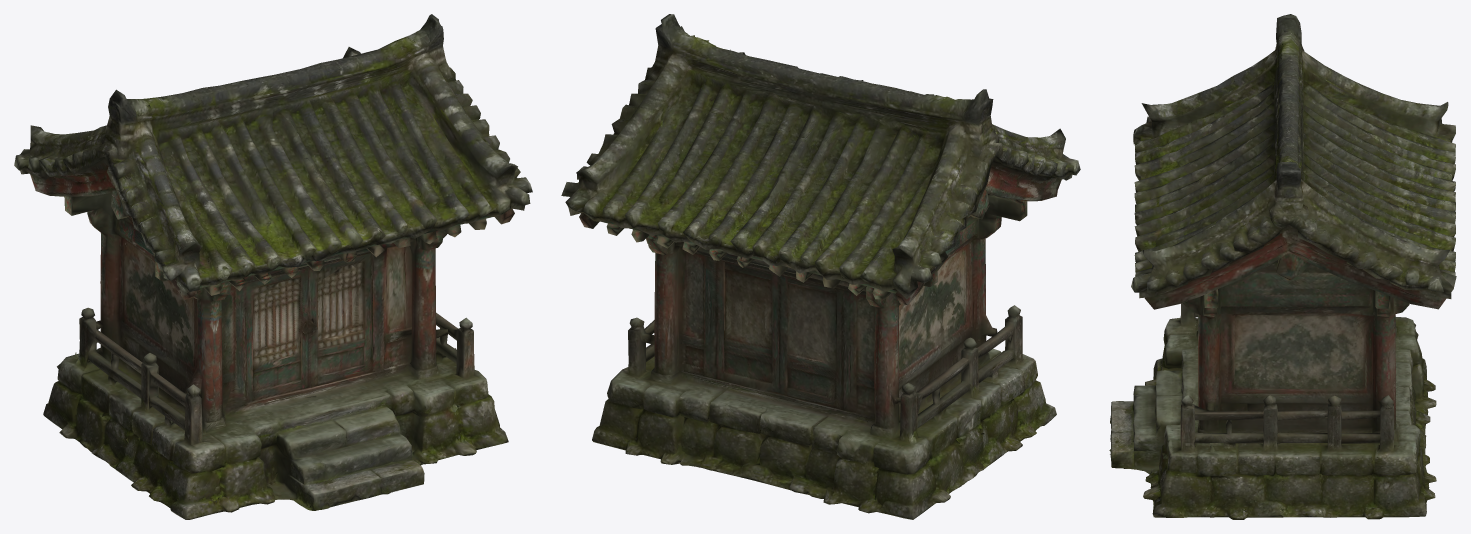
File: t951_shrine.glb
3 renders of one model, left to right at view 1: azimuth 30°, elevation 25°; view 2: azimuth 150°, elevation 25°; view 3: azimuth 270°, elevation 25°, orthographic. The views are drawn at different scales.
Parts seen in each view (by area): view 1: tripo_node_a5e1f59b-4566-4f14-bd7b-29fabbc7449b; view 2: tripo_node_a5e1f59b-4566-4f14-bd7b-29fabbc7449b; view 3: tripo_node_a5e1f59b-4566-4f14-bd7b-29fabbc7449b.
Part boxes in pixels (left/top/right/bottom): tripo_node_a5e1f59b-4566-4f14-bd7b-29fabbc7449b: left=14, top=14, right=532, bottom=519; tripo_node_a5e1f59b-4566-4f14-bd7b-29fabbc7449b: left=561, top=14, right=1080, bottom=519; tripo_node_a5e1f59b-4566-4f14-bd7b-29fabbc7449b: left=1109, top=14, right=1456, bottom=519.
Size of the model in its own units: 0.9799 by 0.965 by 0.8527.
1 material, 1 textured.
